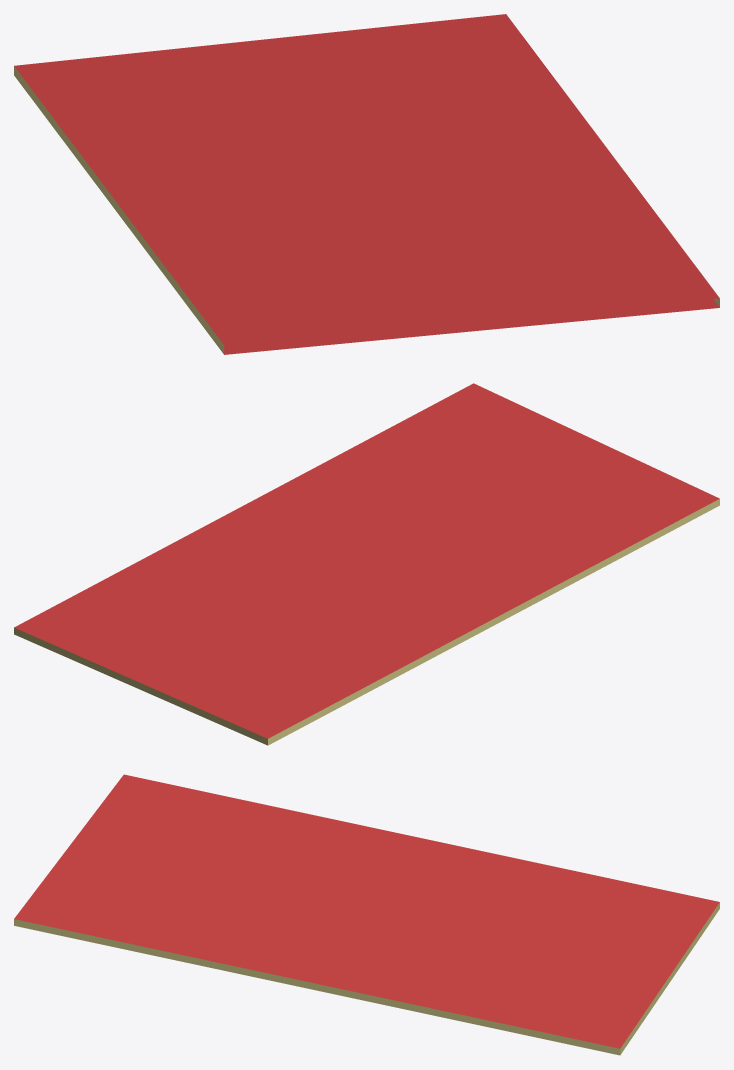
The picture shows the model from 3 angles, top to bottom: view 1: azimuth 30°, elevation 25°; view 2: azimuth 150°, elevation 25°; view 3: azimuth 270°, elevation 25°; orthographic projection. The views are drawn at different scales.
Bounding box in the file's own units: 6.92 × 9.43 × 0.927.
